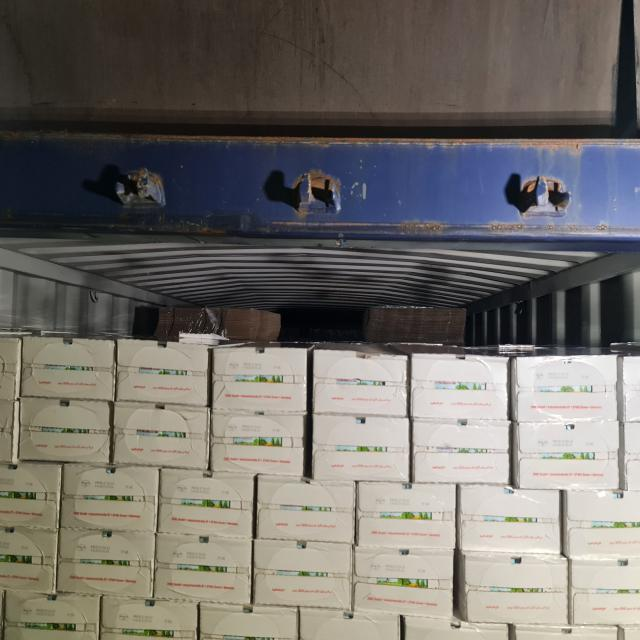Carton: (56, 470, 199, 640), (311, 411, 456, 547), (411, 352, 511, 487), (210, 345, 308, 476), (464, 553, 568, 626), (354, 544, 455, 617), (251, 537, 352, 610), (459, 485, 564, 554), (514, 420, 619, 489), (156, 470, 252, 540), (113, 400, 210, 468), (154, 533, 249, 602), (255, 477, 354, 543), (312, 346, 408, 414), (16, 333, 114, 399), (15, 399, 112, 465), (516, 356, 618, 418), (116, 338, 207, 400), (566, 488, 639, 559), (3, 590, 99, 639), (570, 560, 640, 622), (0, 465, 61, 533), (200, 601, 296, 640)
